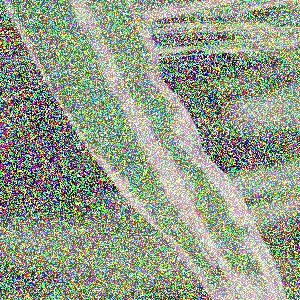Leaf_Blast: (60, 3, 183, 230)
